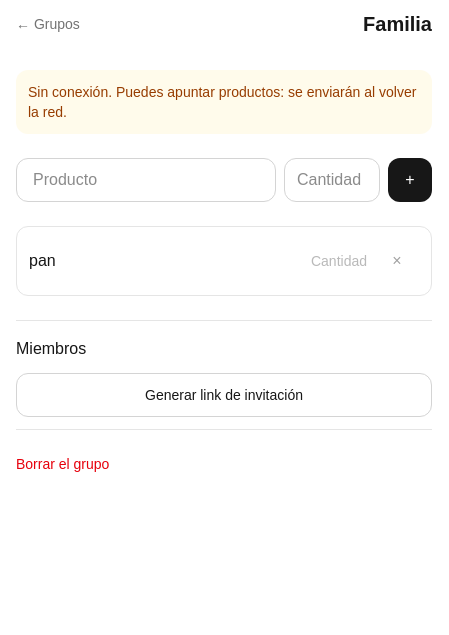
Test: J5 la interfaz muestra los fallos › DoD 62 (L1): tras un borrado que falla, el boton vuelve a estar disponible
Click the button with test id "delete-item" at (397, 261), box [375, 239, 419, 283]
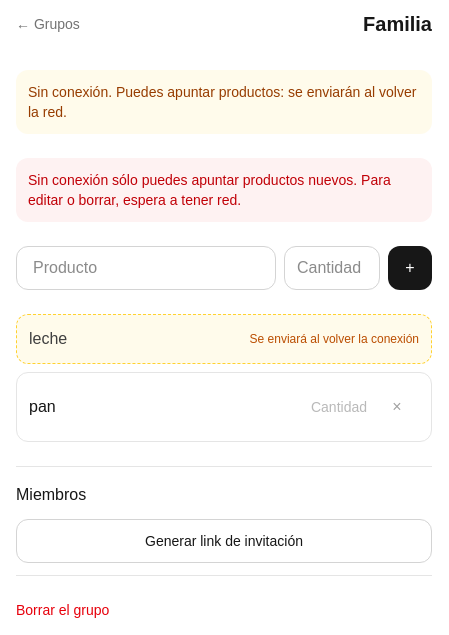
Expected: the button with test id "delete-item" is enabled, [375, 385, 419, 429]
Expected: the message with test id "notice" is shown, [16, 158, 432, 222]
